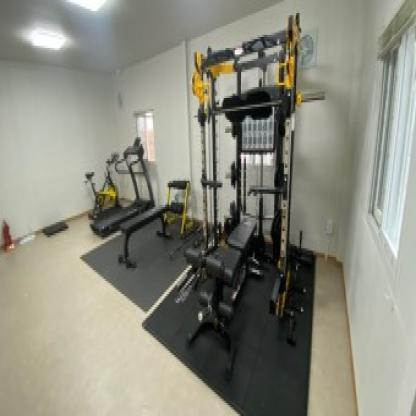smith machine: (189, 12, 324, 318)
